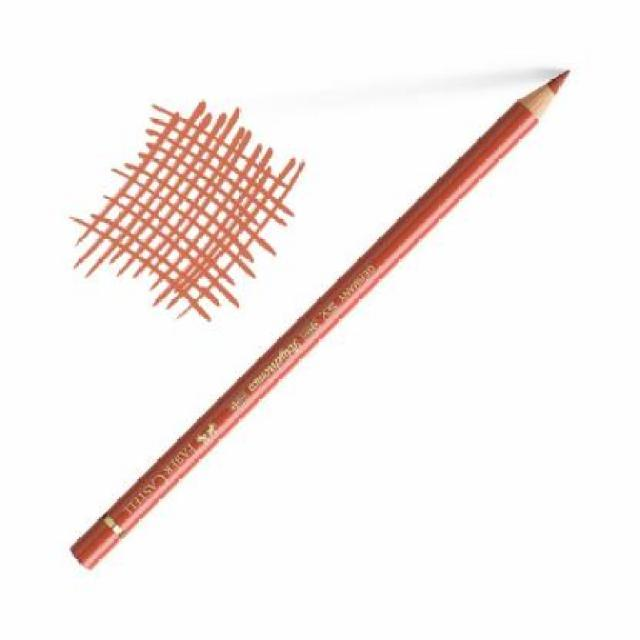Pencil: (500, 65, 578, 137)
